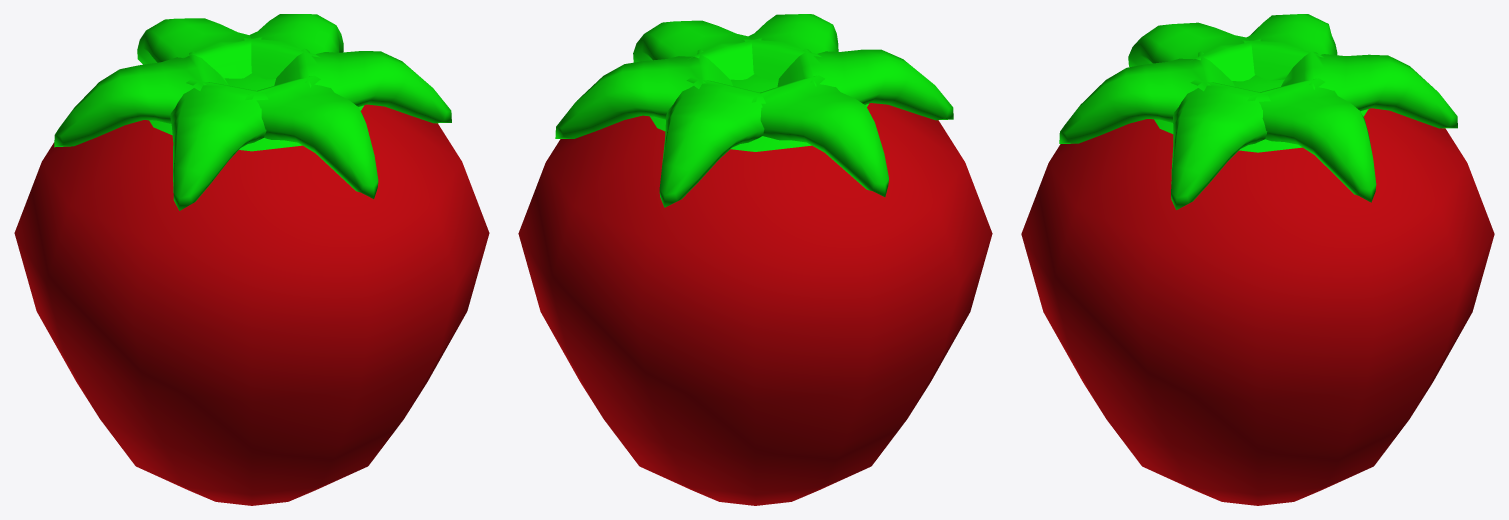
The model's file is morango.glb.
3 views of the same model, side by side, from view 1: azimuth 30°, elevation 25°; view 2: azimuth 150°, elevation 25°; view 3: azimuth 270°, elevation 25° (orthographic).
Visible parts, largest first — view 1: Sphere, Sphere.001; view 2: Sphere, Sphere.001; view 3: Sphere, Sphere.001.
Boxes of the visible parts, <box> form: Sphere: <box>14,73,489,505</box>; Sphere.001: <box>54,14,451,210</box>; Sphere: <box>518,74,992,505</box>; Sphere.001: <box>555,14,953,207</box>; Sphere: <box>1021,75,1494,505</box>; Sphere.001: <box>1059,14,1457,209</box>.
Size of the model in its own units: 2.17 by 2.13 by 2.17.
